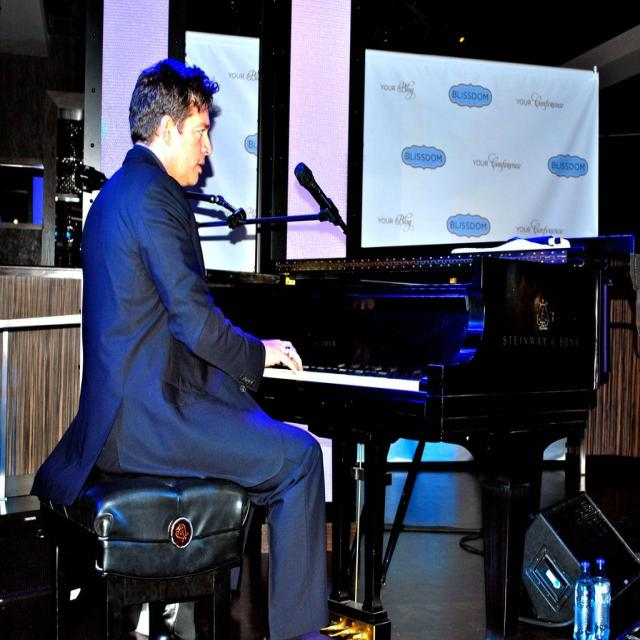no_helmet: (119, 115, 213, 154)
